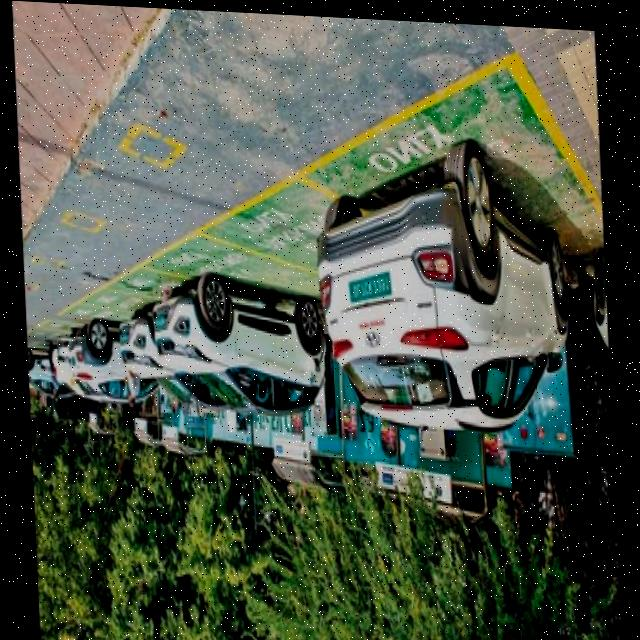plate: (343, 265, 391, 303)
